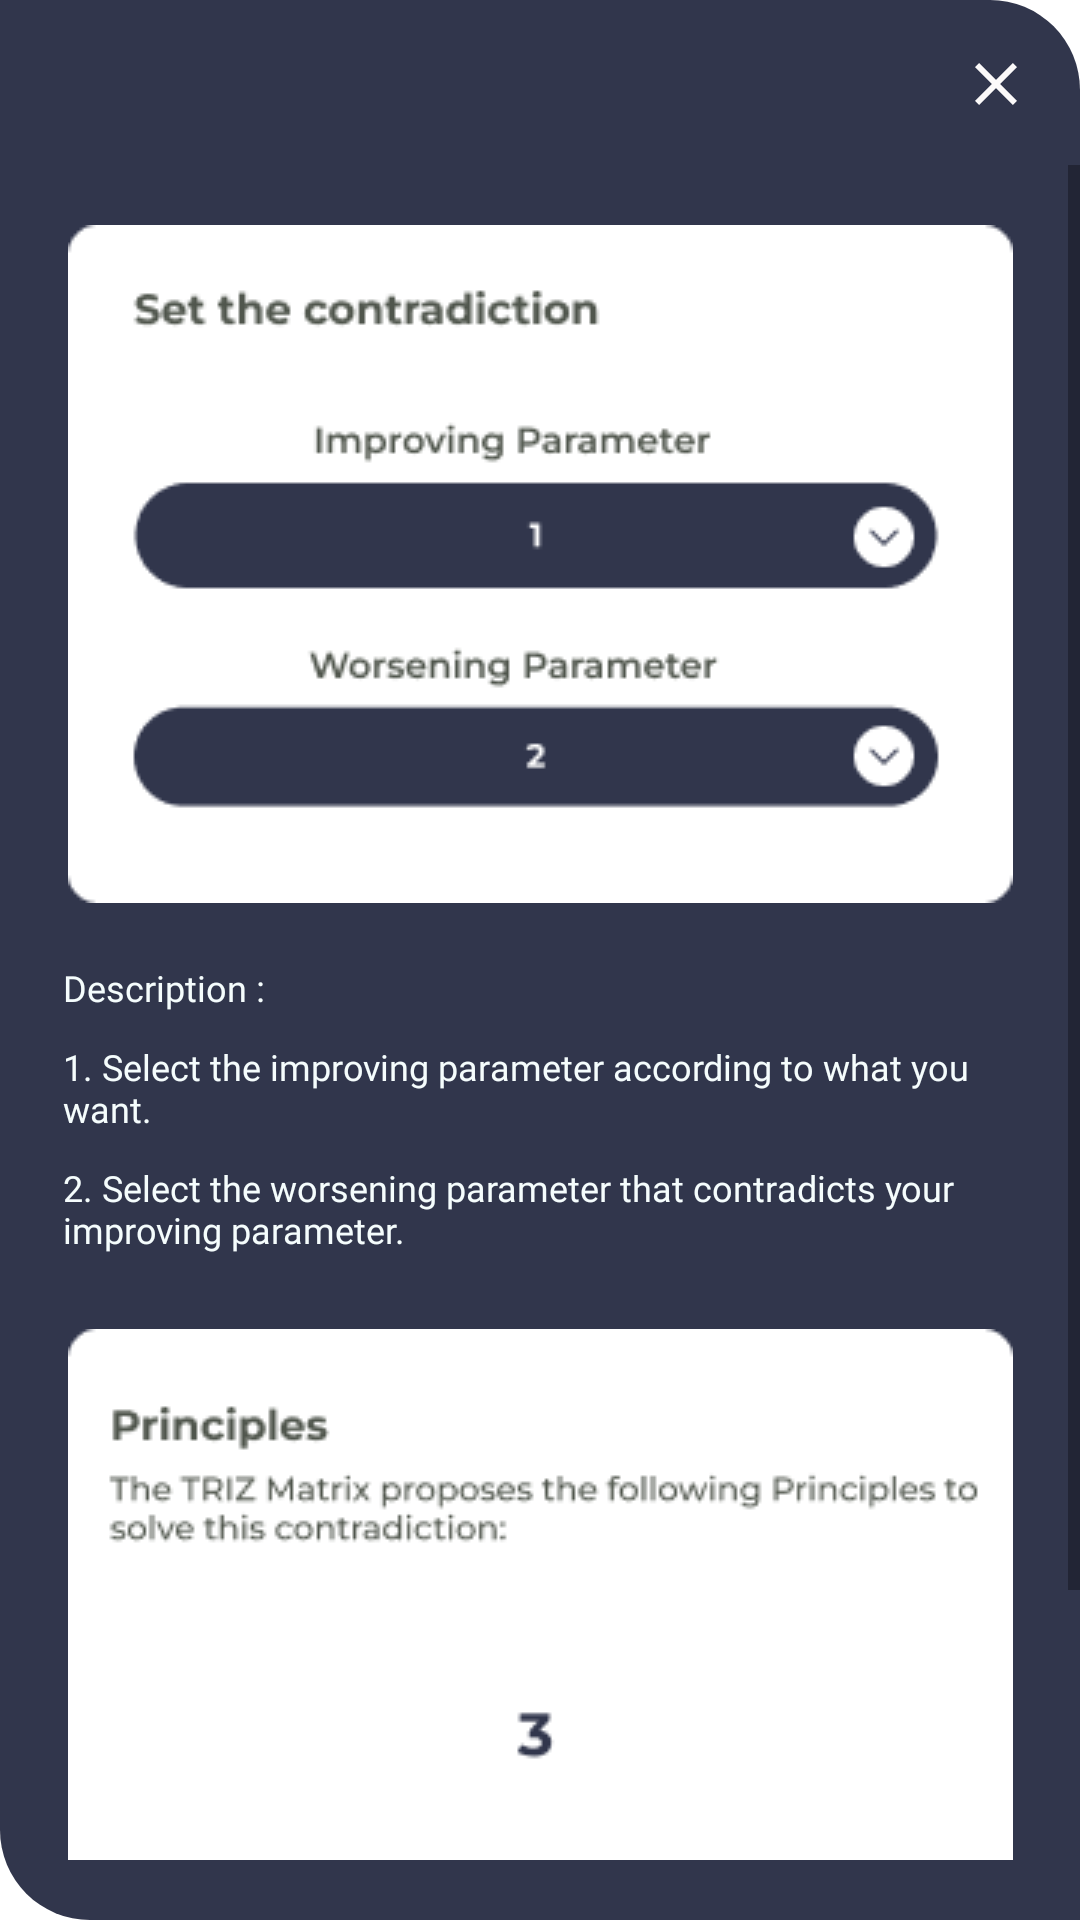

Icon click points for this 1080 × 1920 phone screenshot, format (x=x, y=y):
close: (x=996, y=84)
